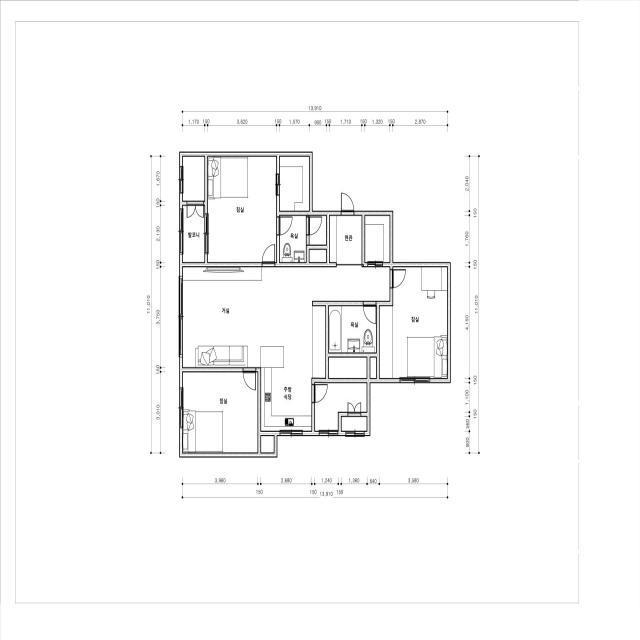space_balconi: (183, 206, 205, 262)
space_bedroom: (379, 267, 447, 378), (208, 156, 276, 262), (183, 372, 258, 453)
space_dressroom: (280, 156, 309, 211)
space_front: (330, 216, 362, 267)
space_kitchen: (261, 301, 326, 431)
space_living_room: (183, 267, 390, 367)
space_other: (315, 383, 367, 431), (365, 216, 390, 262), (183, 156, 205, 201), (329, 357, 367, 378), (309, 216, 326, 245), (341, 417, 367, 431), (261, 436, 274, 453), (309, 250, 326, 262), (370, 357, 376, 378)
space_toilet: (329, 306, 376, 353), (280, 216, 306, 262)
